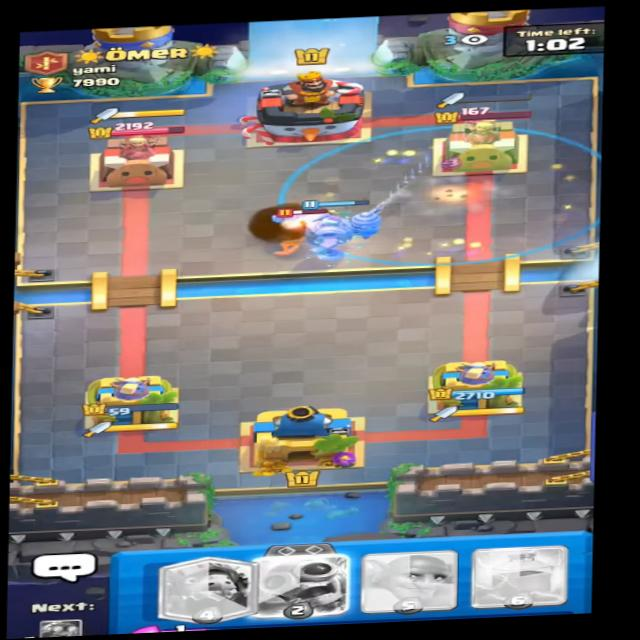fisherman: (252, 204, 317, 259)
